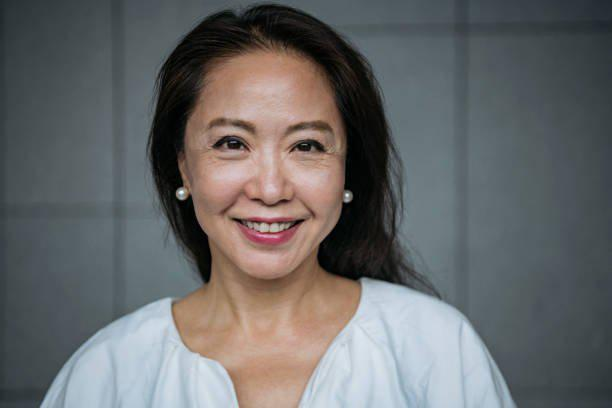Sober: (199, 68, 337, 253)
